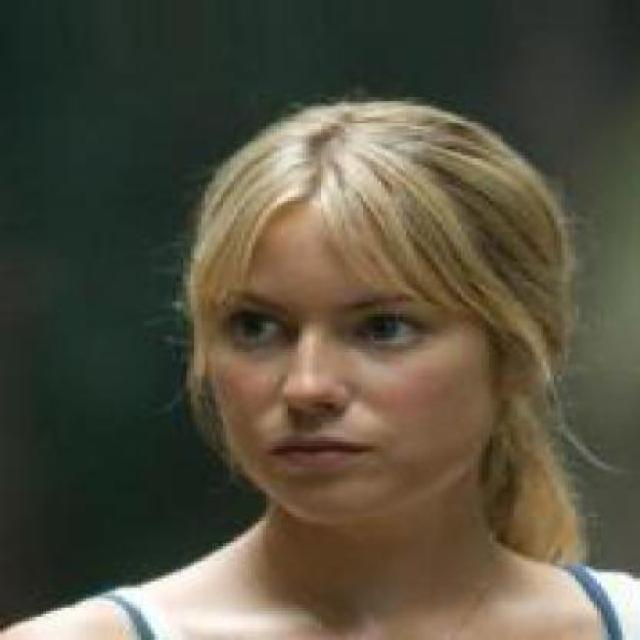closed-mouth: (264, 432, 378, 468)
